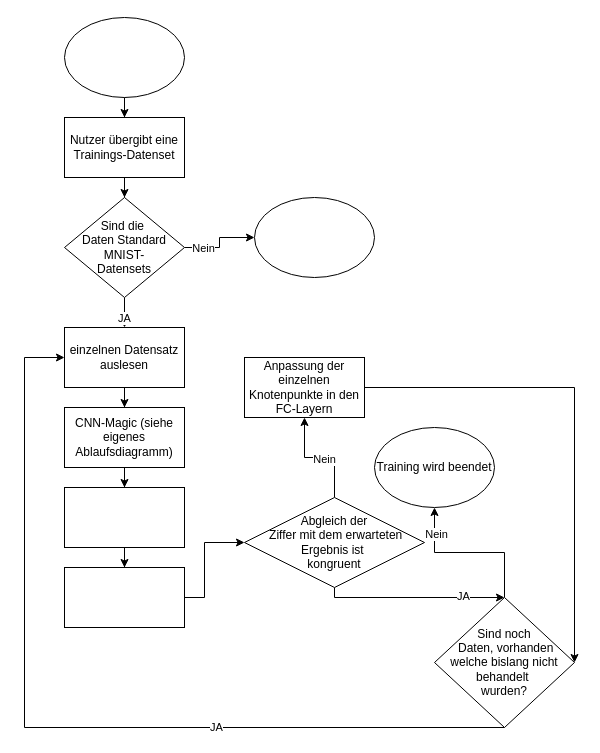
This 600x753 diagram has some shape labels left out. Each missing label, with the centre of its shape:
10 Outputs al Dezimalzahl erhalten: (124,517)
Error, dass das Datenset nicht den Anforderungen entspricht: (314,237)
höchsten Output ermittel und dessen korrespondierende Ziffer: (124,597)
Nutzer startet Applikation im Trainingsmodus: (124,57)
